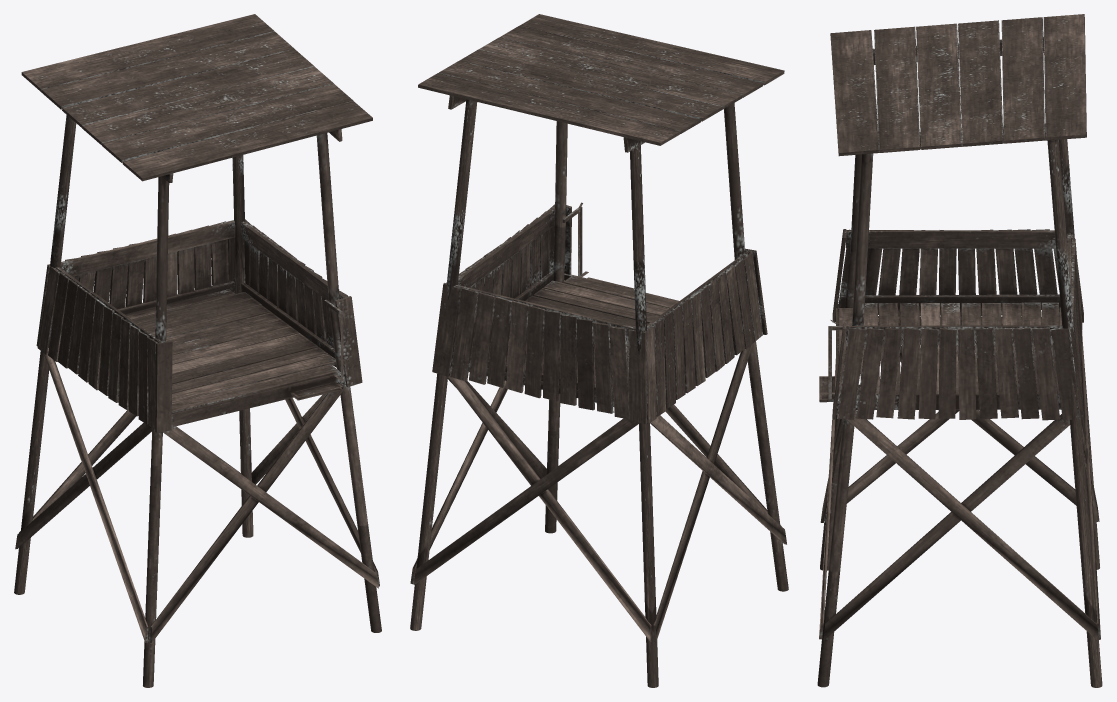
File: watch_tower_b.gltf
The picture shows the model from 3 angles, left to right: view 1: azimuth 30°, elevation 25°; view 2: azimuth 150°, elevation 25°; view 3: azimuth 270°, elevation 25°; orthographic projection. The views are drawn at different scales.
Parts seen in each view (by area): view 1: watchtower; view 2: watchtower; view 3: watchtower.
Part boxes in pixels (x1,y1,x2,y2): watchtower: (14, 14, 381, 687); watchtower: (410, 14, 788, 687); watchtower: (817, 14, 1102, 687).
Bounding box in the file's own units: 2.56 × 5.36 × 2.51.
Materials: 1 (1 with a texture image).
